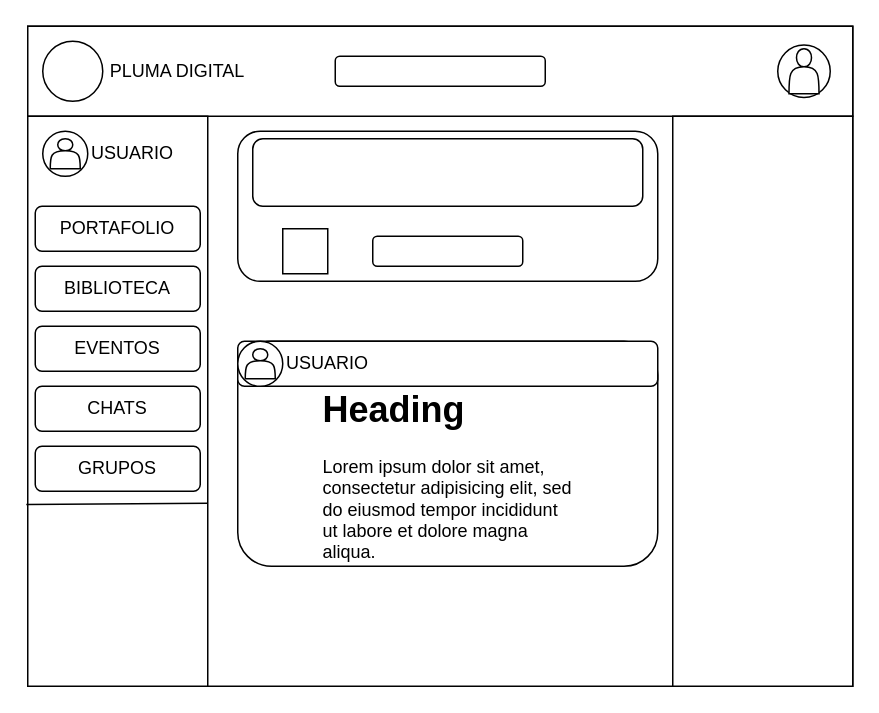
This 879x713 diagram has some shape labels left out. Each missing label, with the box of its shape:
BARRA DE BUSQUEDA: (334, 55, 545, 86)
CREAR POST: (371, 235, 523, 266)
LOGO: (41, 40, 103, 101)
